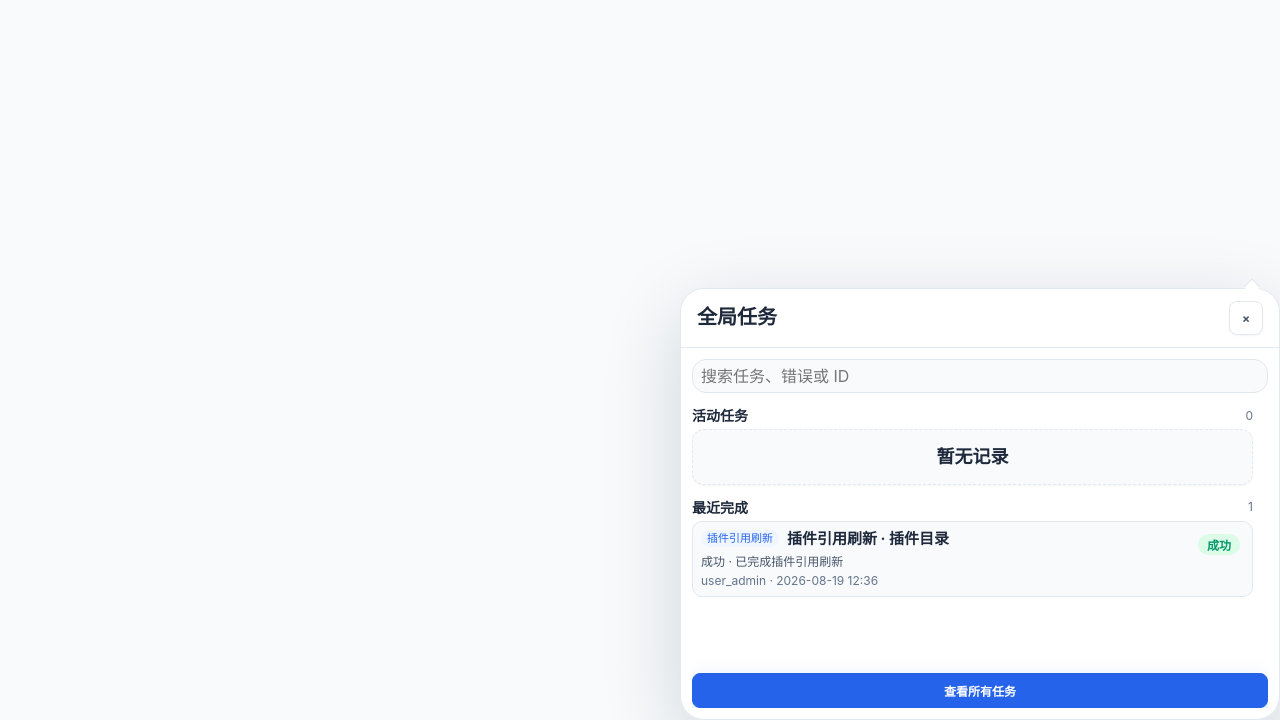
Test: TaskDrawer ACME 任务展示 › 将插件目录刷新结果呈现为业务摘要，并将原始事件收进折叠技术详情
The image size is (1280, 720).
(page scrolled)
Click the button with class "task-drawer__item-open".
click(740, 539)  # box x1=693 y1=522 x2=1190 y2=596
(page scrolled)
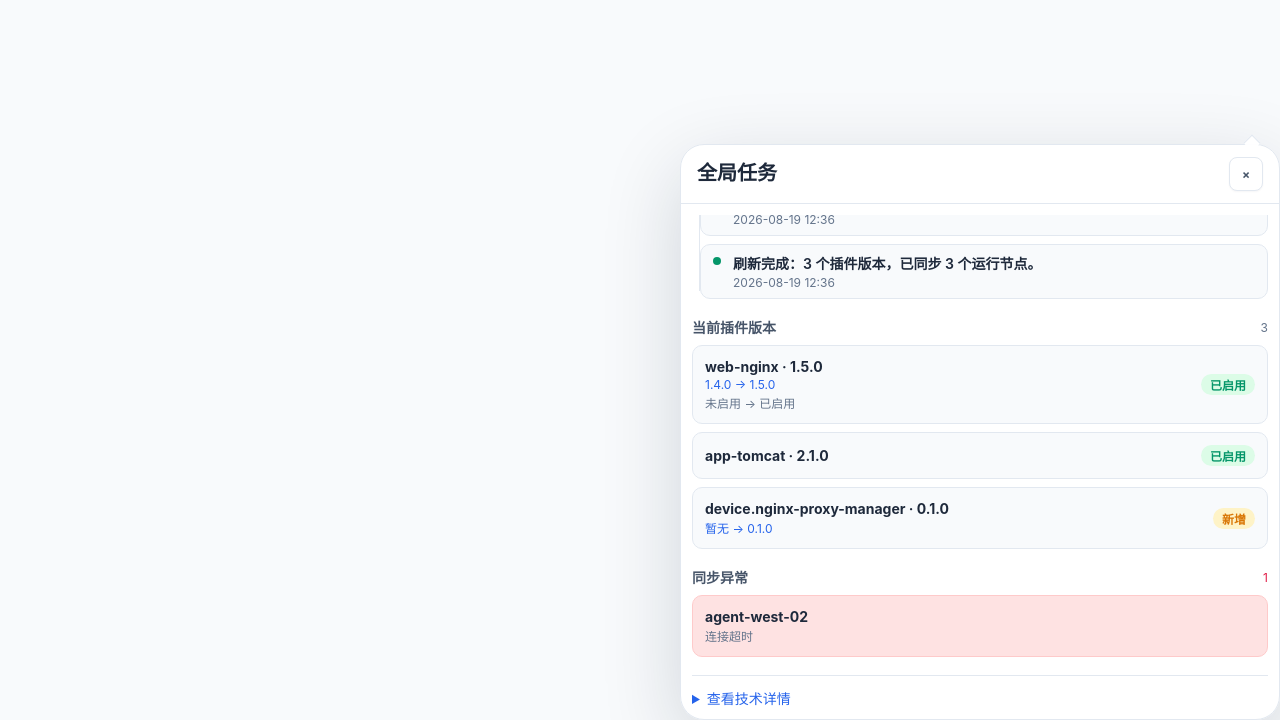
Check: the text "web-nginx · 1.5.0" is shown, box x1=705 y1=358 x2=823 y2=375
Check: the text with class "task-drawer__plugin-version-transition" reads "1.4.0 → 1.5.0", box x1=705 y1=377 x2=775 y2=392
Check: the text with class "task-drawer__plugin-status-transition" reads "未启用 → 已启用", box x1=705 y1=396 x2=795 y2=411
